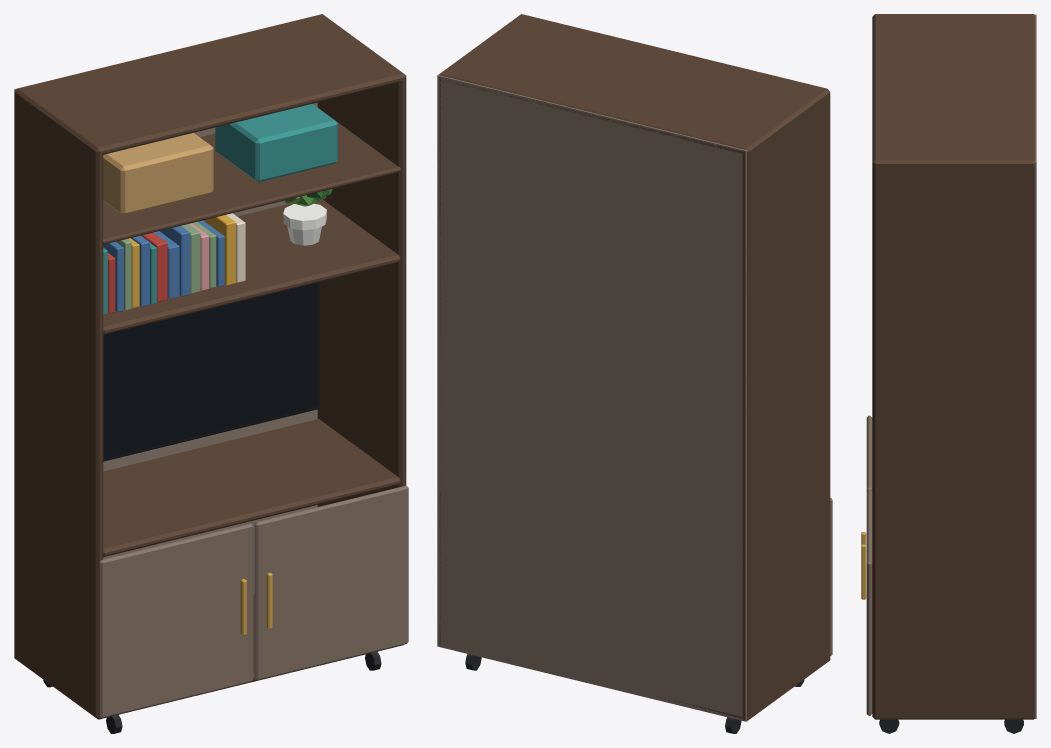
Rendered from rolling_tv_unit.glb.
3 renders of one model, left to right at view 1: azimuth 30°, elevation 25°; view 2: azimuth 150°, elevation 25°; view 3: azimuth 270°, elevation 25°, orthographic. The views are drawn at different scales.
Visible parts, largest first — view 1: rolling_tv_unit_Body; view 2: rolling_tv_unit_Body; view 3: rolling_tv_unit_Body.
Boxes of the visible parts, box(x1,y1,x2,y2) form: rolling_tv_unit_Body: box(14, 14, 408, 733); rolling_tv_unit_Body: box(437, 14, 832, 733); rolling_tv_unit_Body: box(861, 14, 1036, 733).
Bounding box in the file's own units: 1.2 × 2.2 × 0.6.
